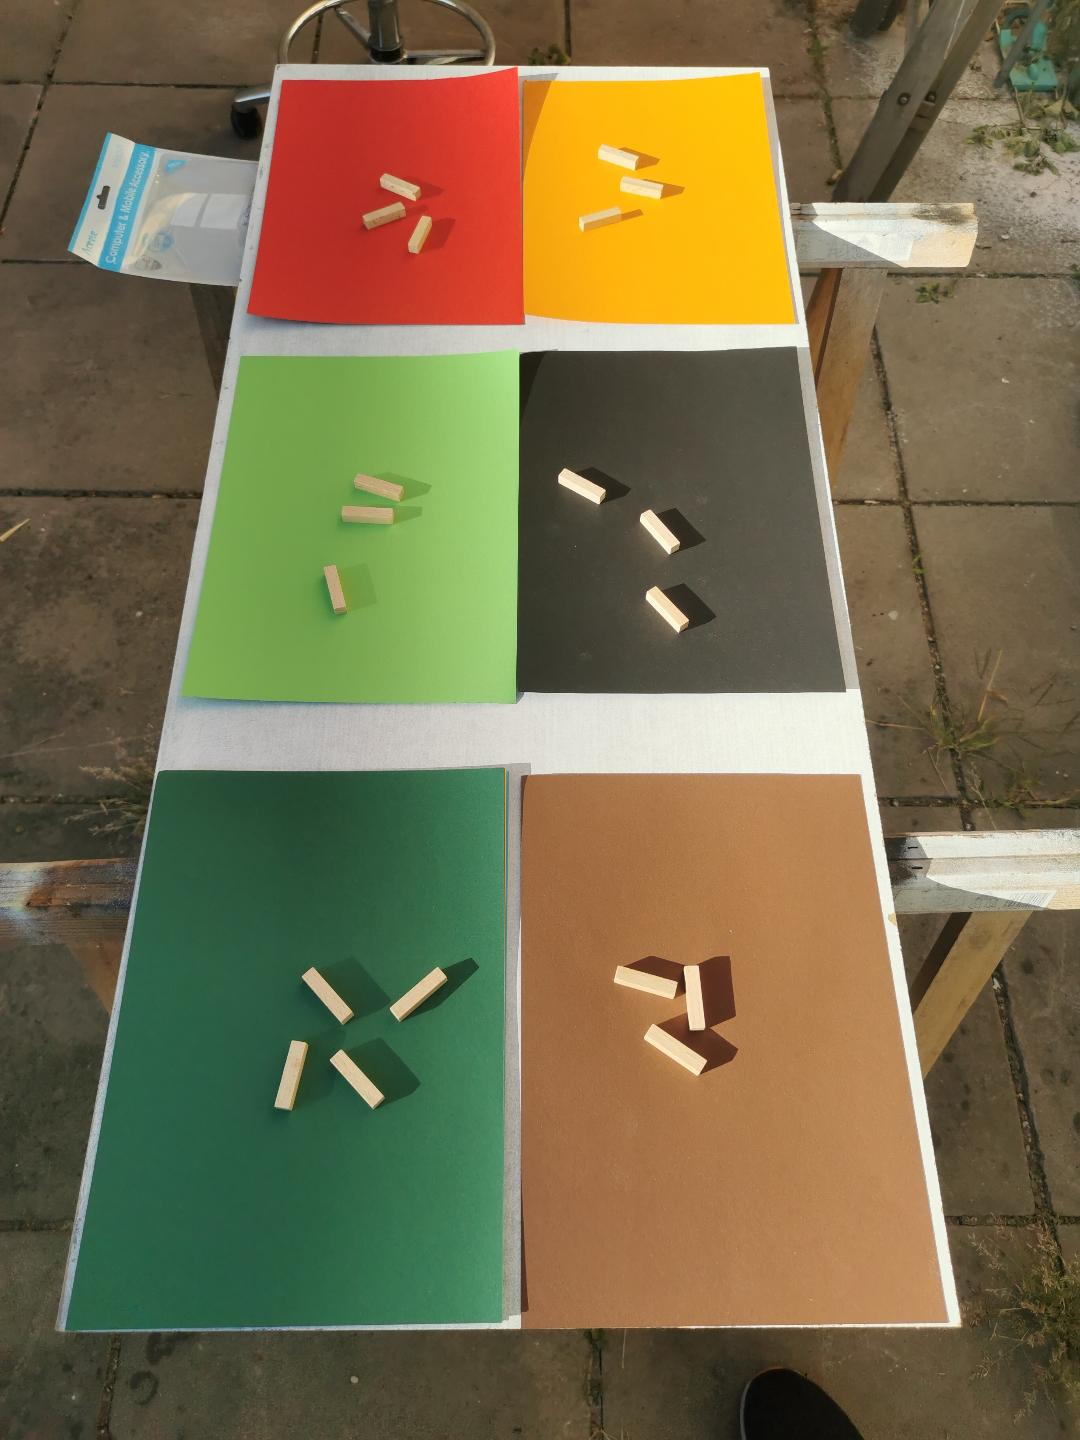jenga: (329, 1049, 385, 1108), (301, 968, 354, 1024), (391, 968, 447, 1021), (644, 1027, 706, 1074), (276, 1041, 307, 1111), (613, 965, 678, 998), (638, 509, 681, 554), (647, 588, 689, 633), (557, 470, 605, 503), (683, 965, 706, 1032), (354, 472, 405, 501), (340, 503, 394, 526), (363, 202, 405, 231), (323, 565, 346, 613), (380, 174, 422, 200), (619, 177, 664, 200), (599, 143, 638, 169), (579, 208, 622, 231), (408, 217, 433, 253)
